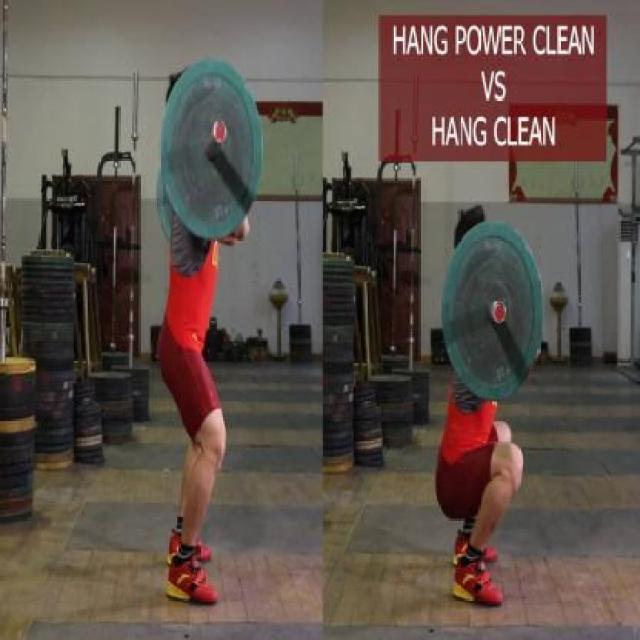barbell: (157, 53, 271, 249), (437, 212, 551, 408)
